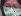with_mask: (2, 2, 21, 16)
